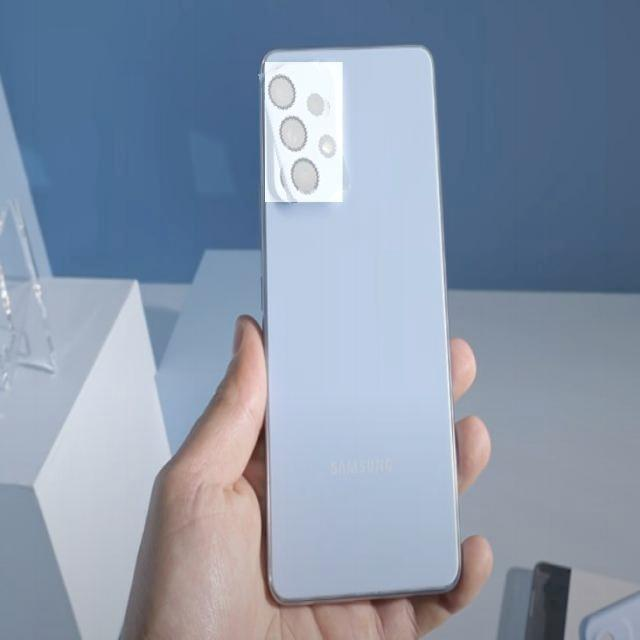lens: (267, 73, 341, 196)
phone: (255, 42, 464, 607)
